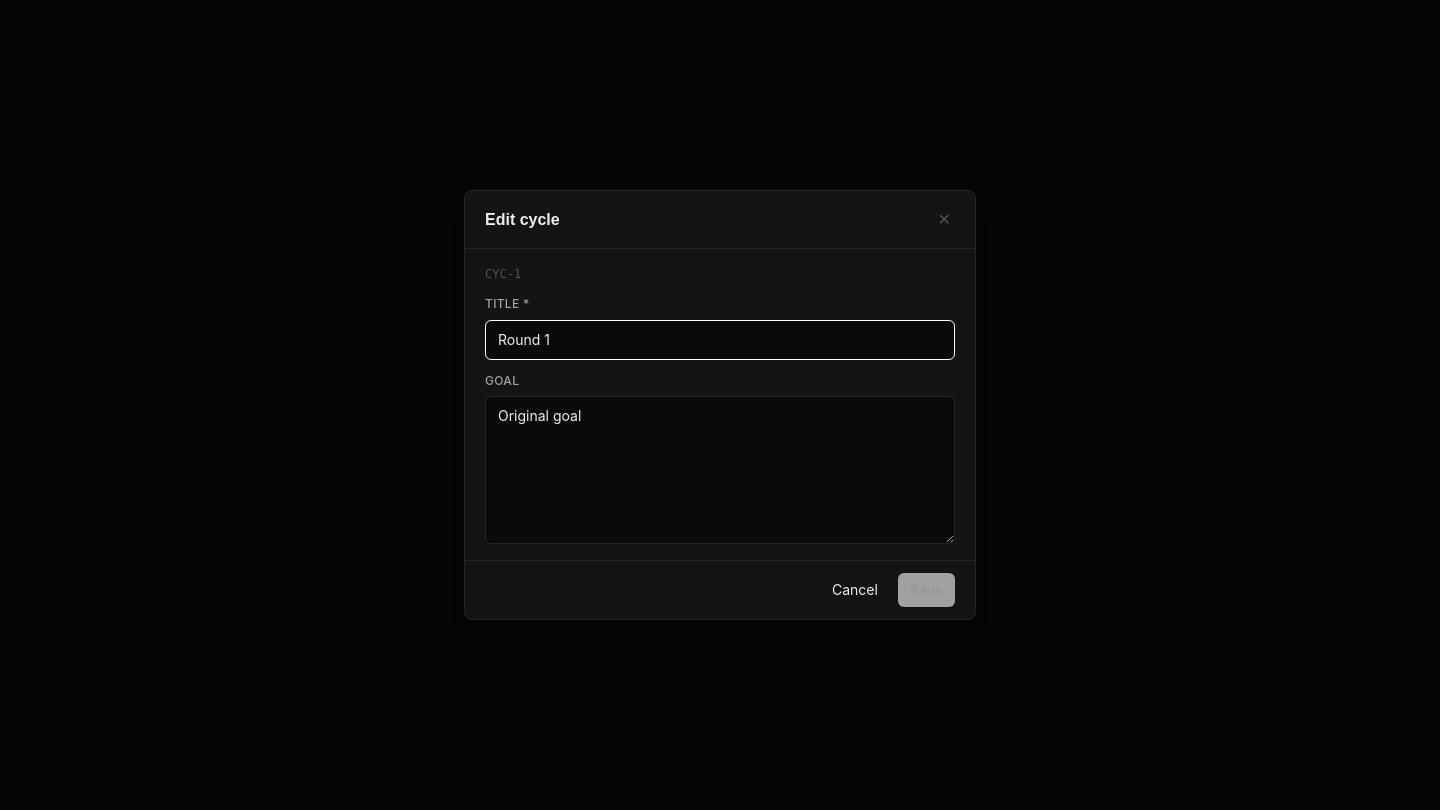
CycleEditModal › surfaces daemon errors
The width and height of the screenshot is (1440, 810).
Replace the text in the field with test id "cycle-edit-title" with "x" at (720, 340), box [485,320,955,360]
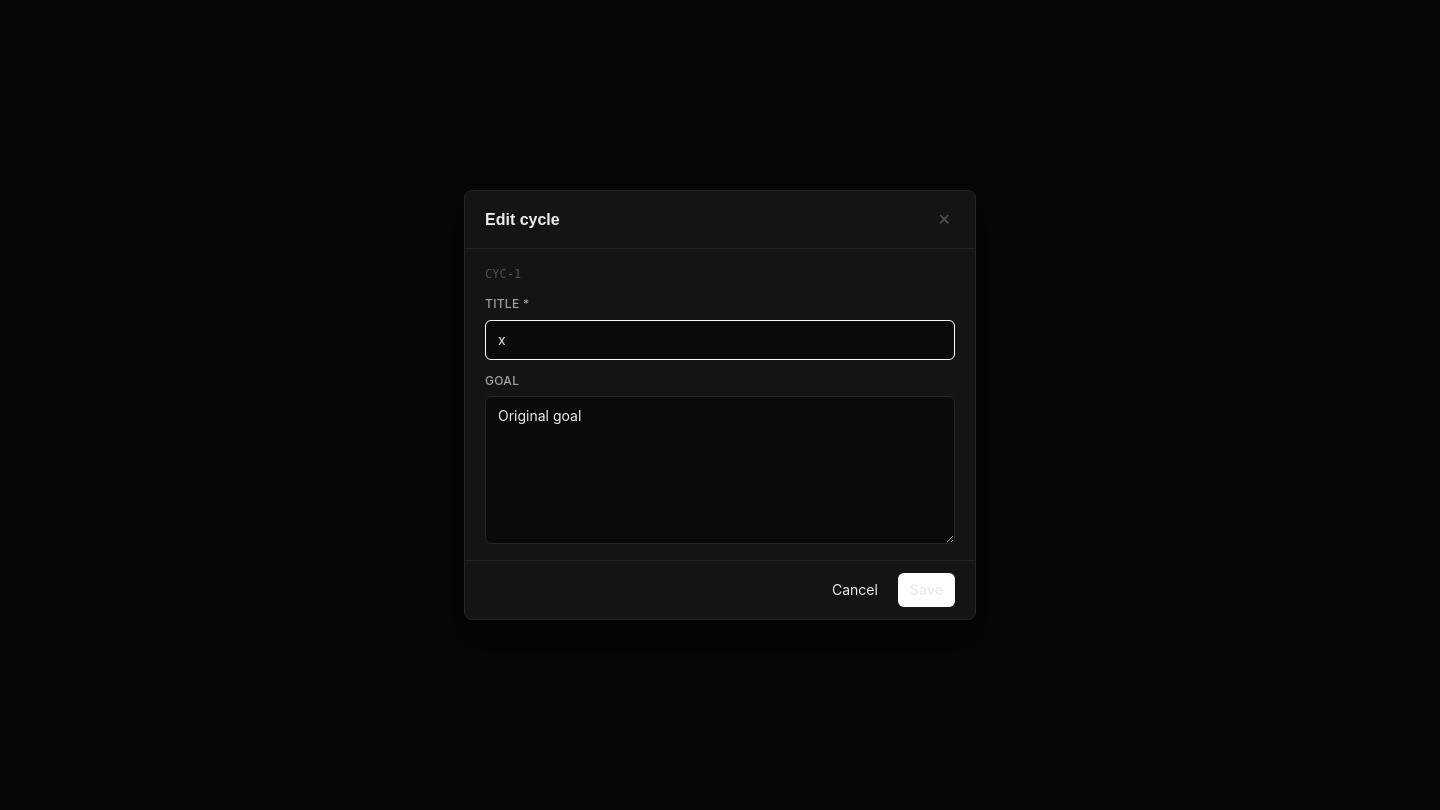
Click the button with test id "cycle-edit-submit".
click(926, 590)  # box [898,573,955,607]
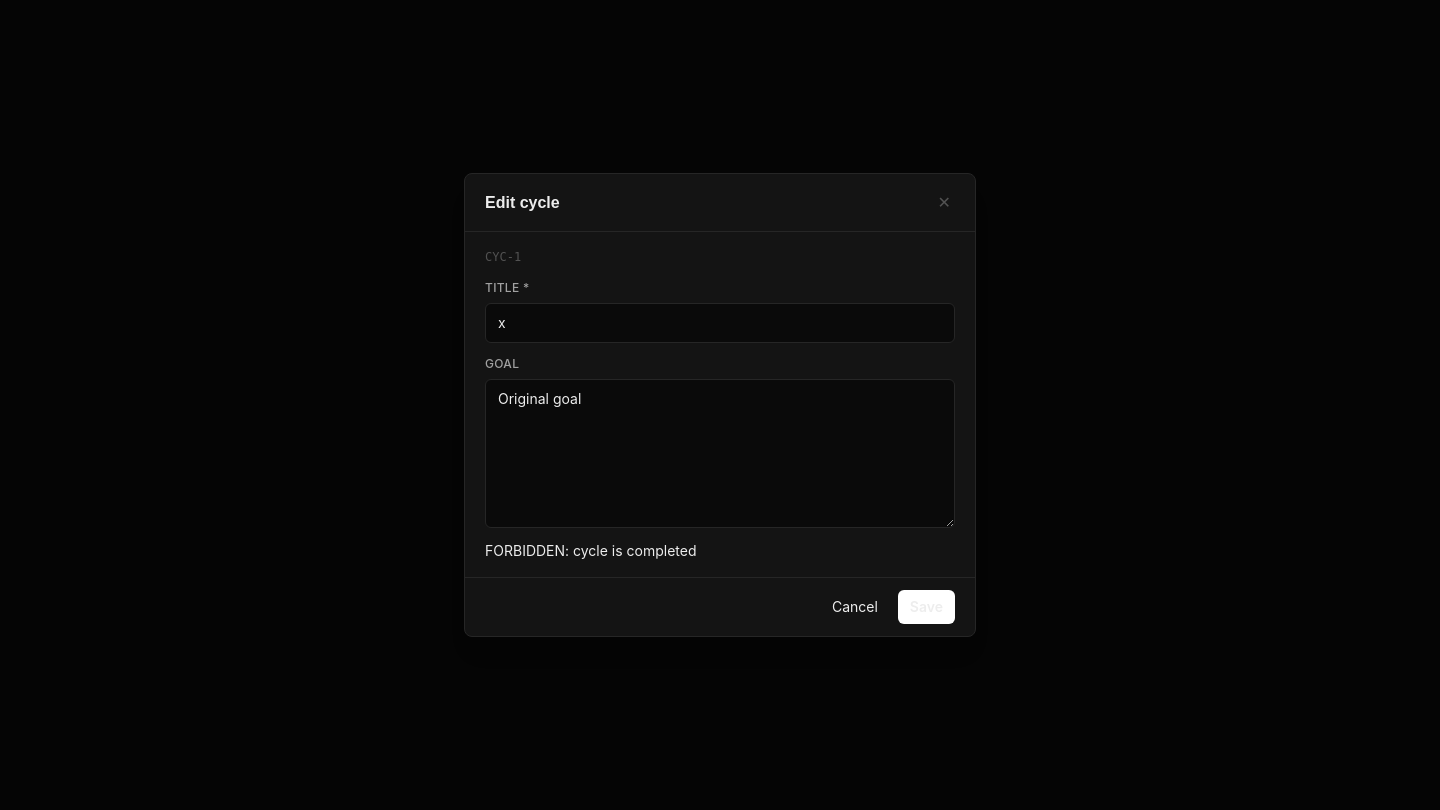
Result: the message with test id "cycle-edit-error" reads "FORBIDDEN: cycle is completed" at [485,542,696,558]
